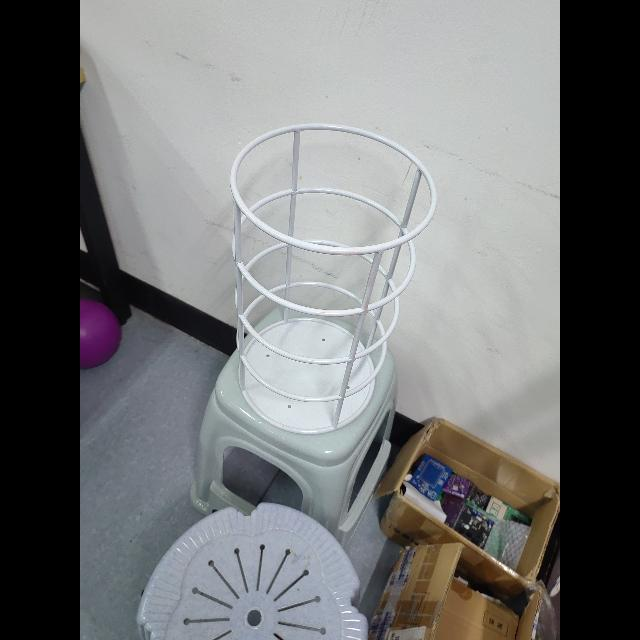S: (226, 118, 438, 440)
